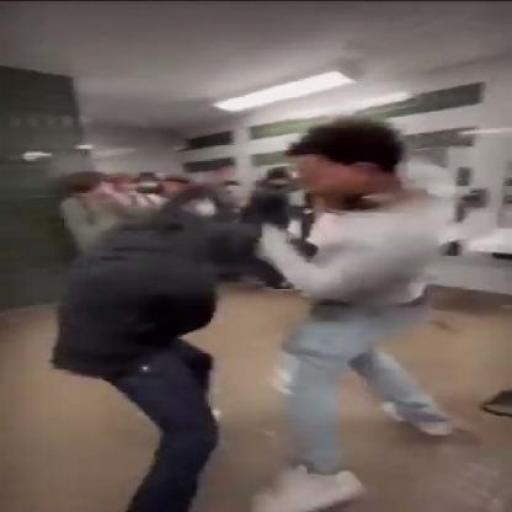Fighting: (52, 129, 469, 512)
